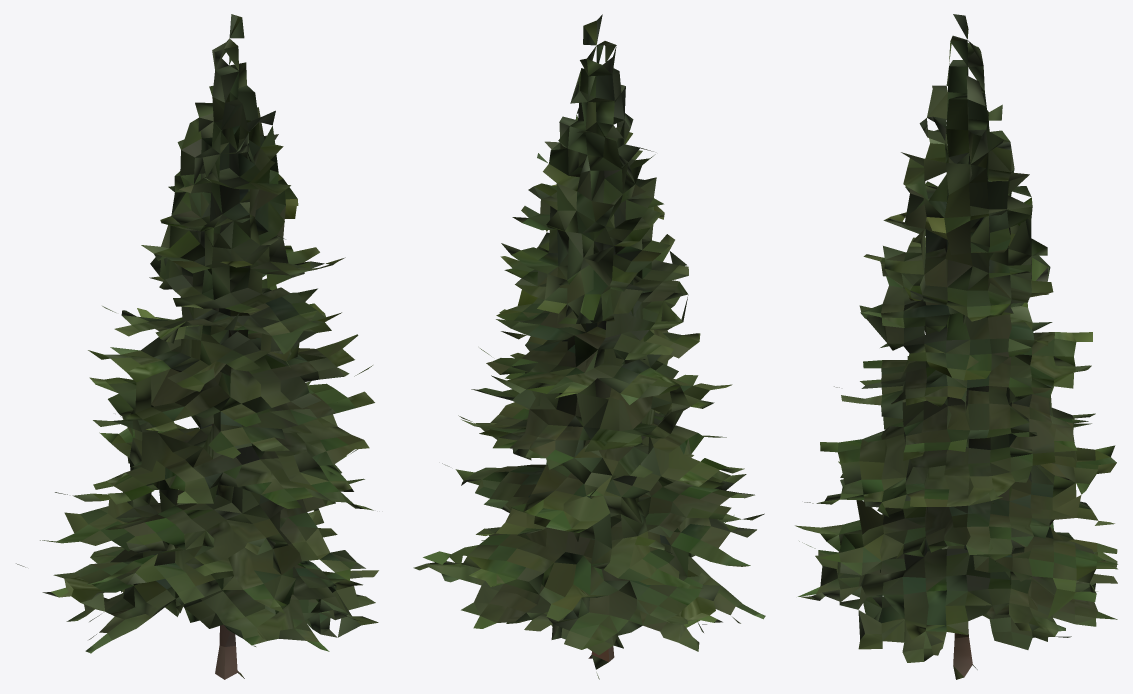
File: fir-tree.glb
The picture shows the model from 3 angles, left to right: view 1: azimuth 30°, elevation 25°; view 2: azimuth 150°, elevation 25°; view 3: azimuth 270°, elevation 25°; orthographic projection. The views are drawn at different scales.
Visible parts, largest first — view 1: FirTree; view 2: FirTree; view 3: FirTree.
Part boxes in pixels (bbox=[...]): FirTree: bbox=[16, 14, 378, 679]; FirTree: bbox=[413, 14, 765, 679]; FirTree: bbox=[795, 14, 1117, 679].
Size of the model in its own units: 0.8683 by 1.76 by 0.7843.
1 material, 1 textured.
